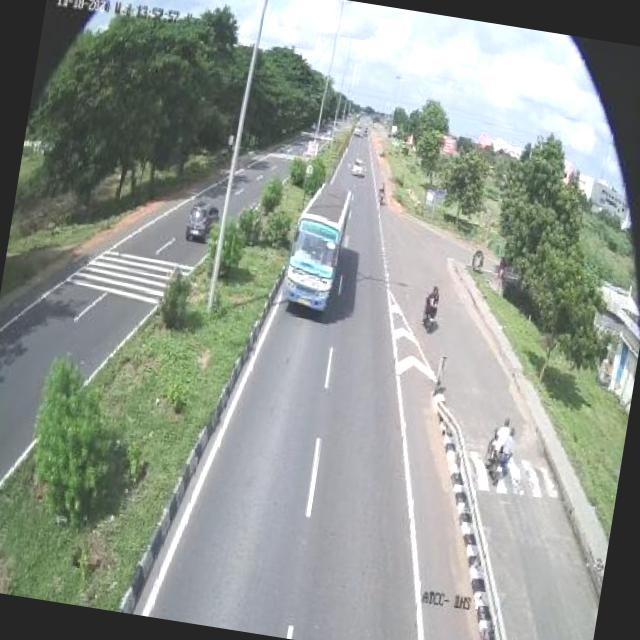car: (184, 194, 219, 247)
